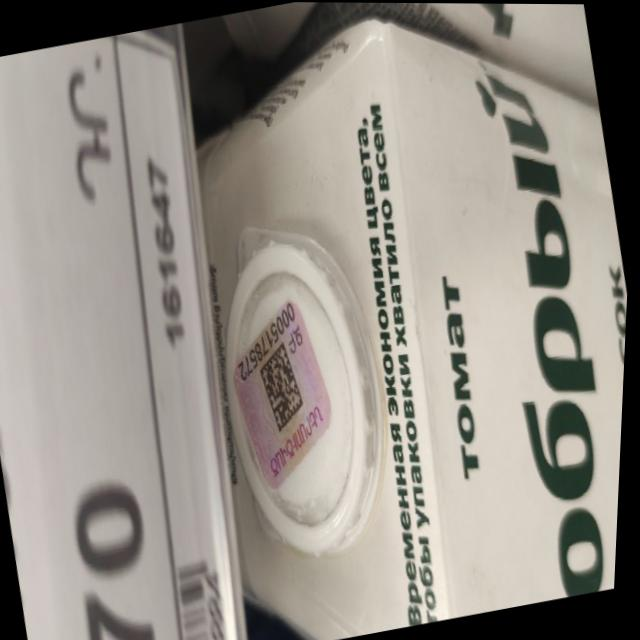datamatrix: (256, 336, 315, 433)
